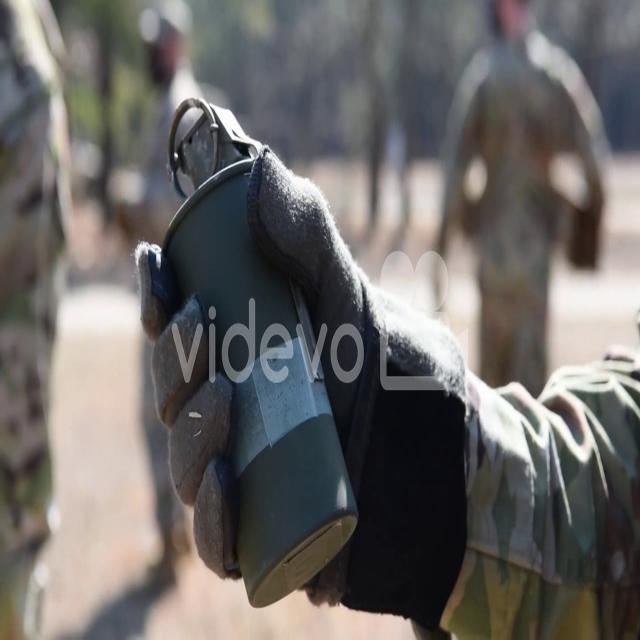grenade: (158, 97, 360, 612)
